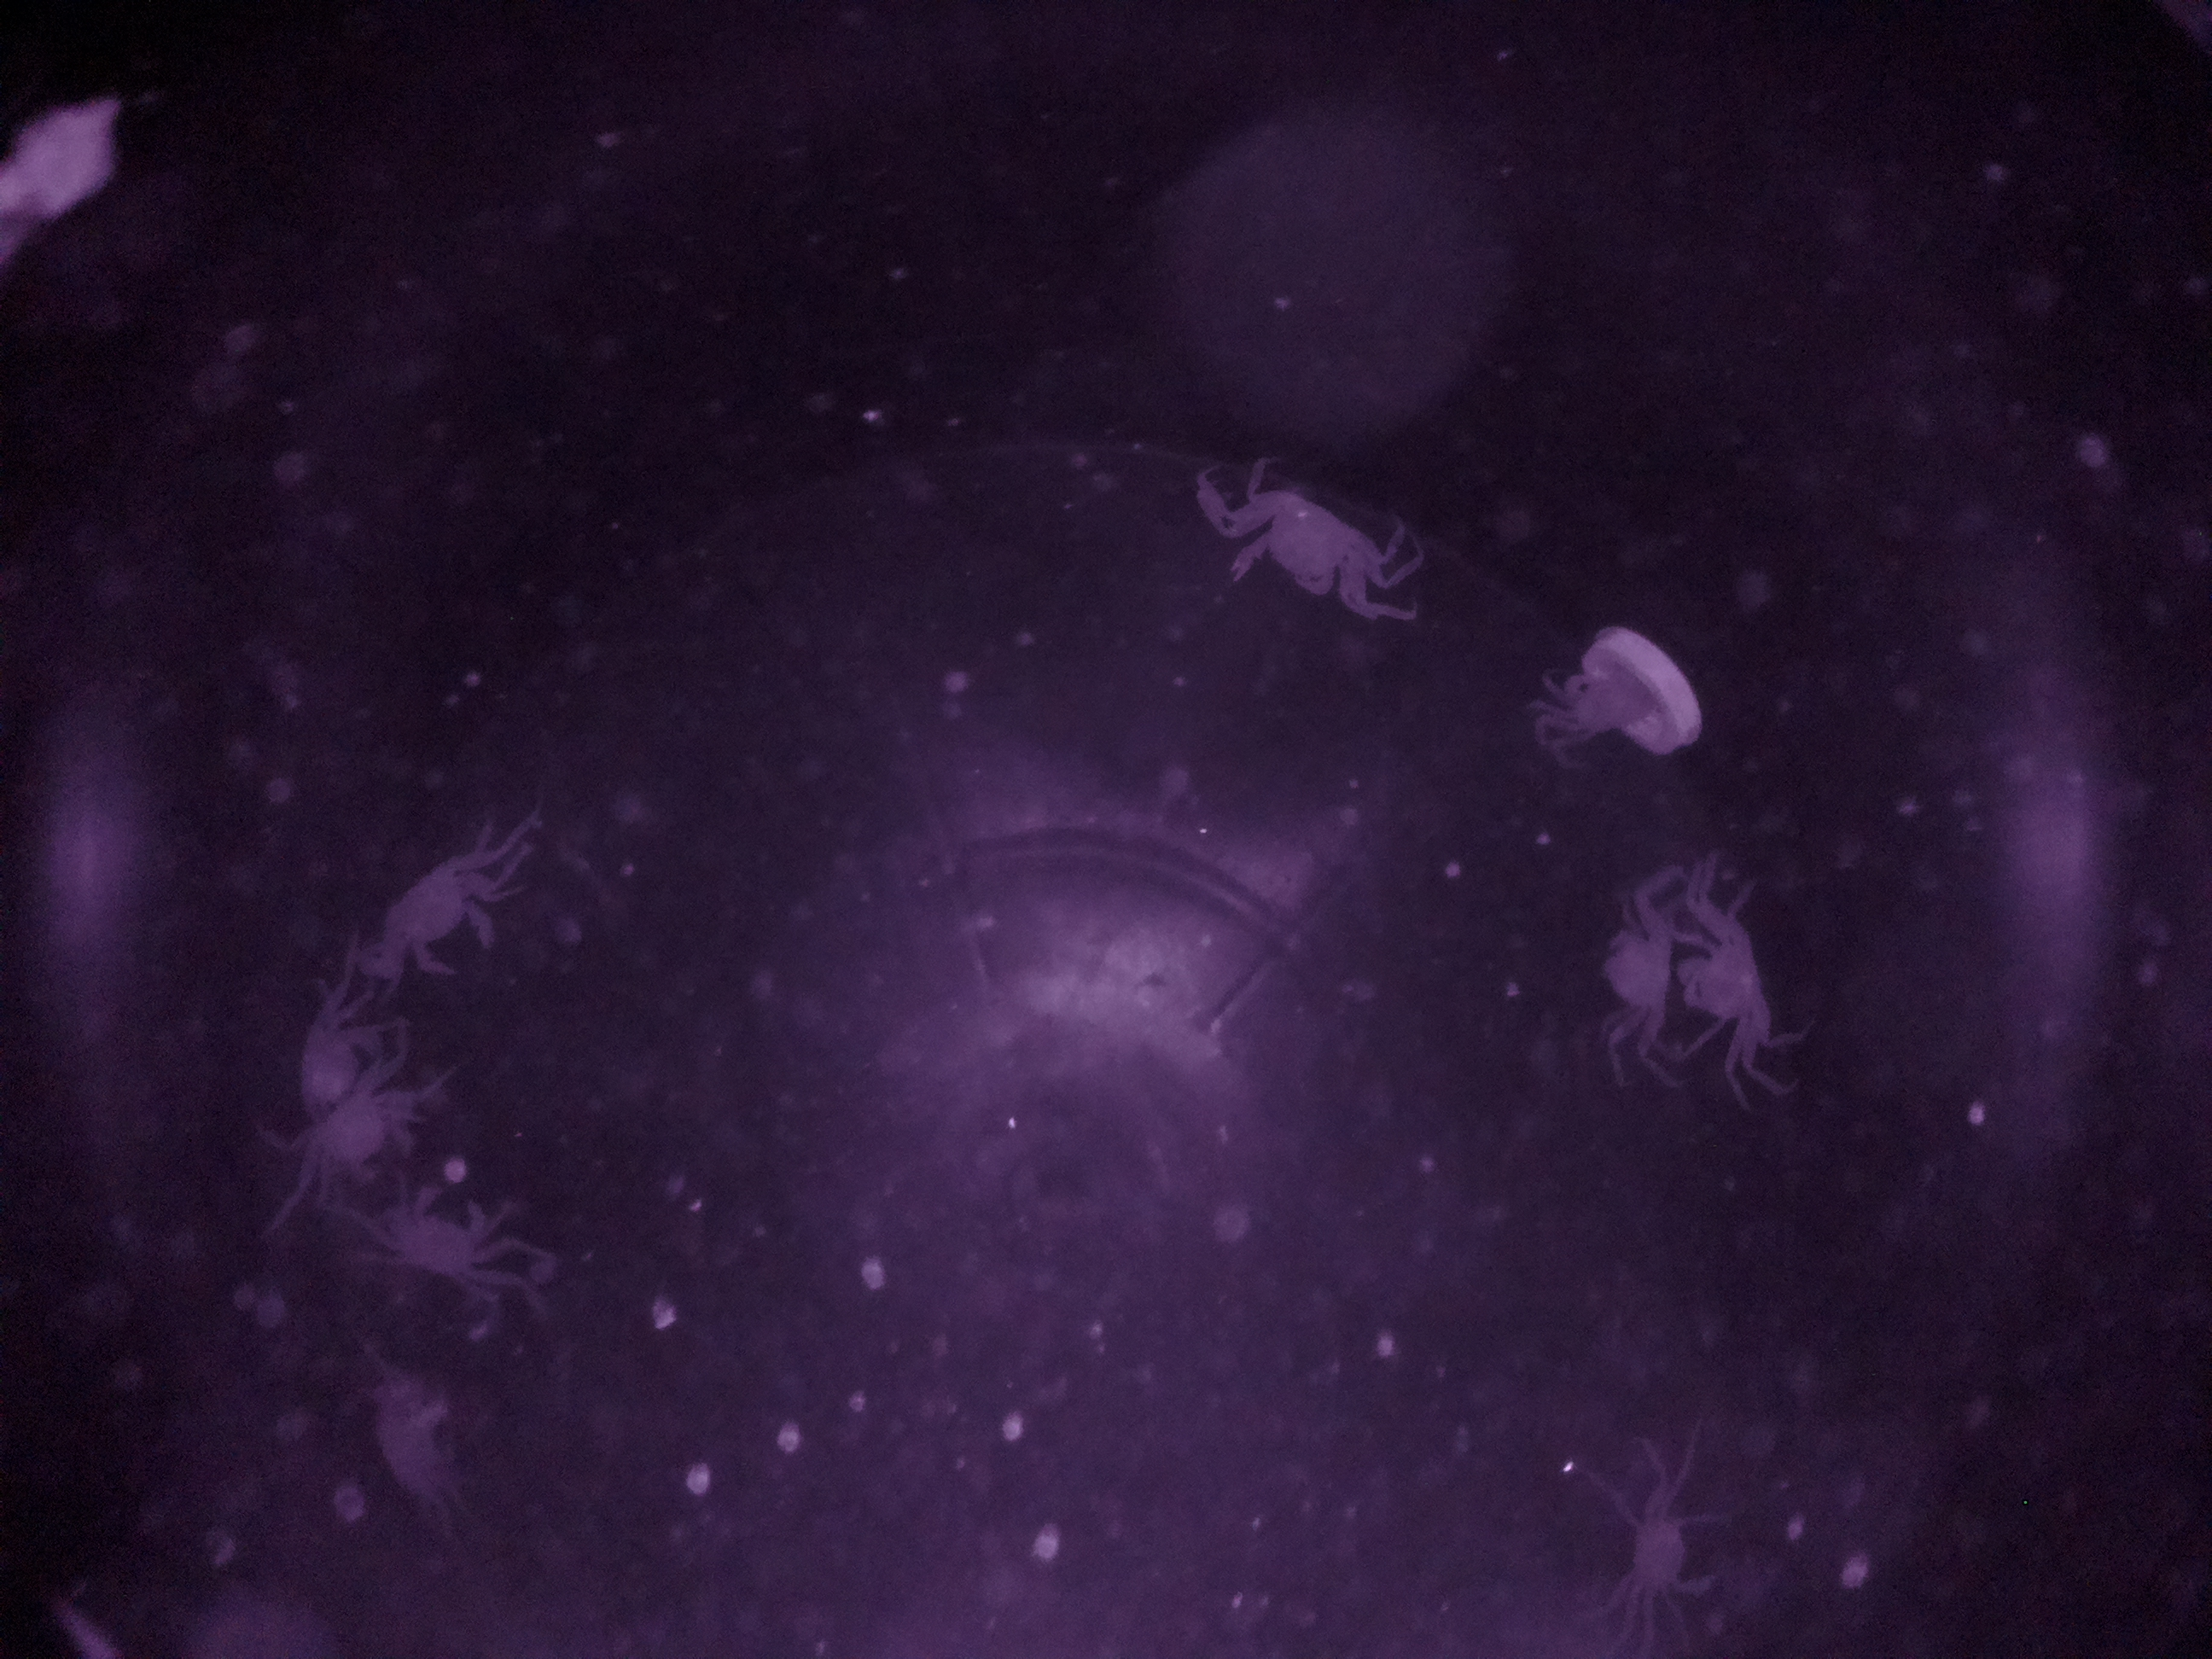Crab: (1207, 457, 1407, 643), (1674, 840, 1794, 1100), (345, 1159, 543, 1316), (348, 833, 529, 993)
